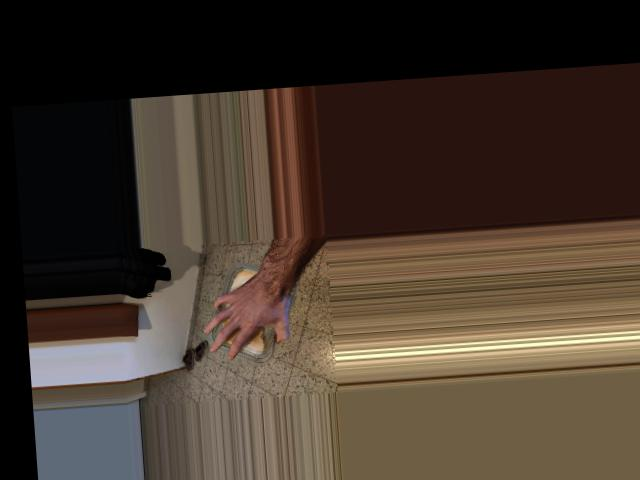cheese: (201, 263, 300, 363)
